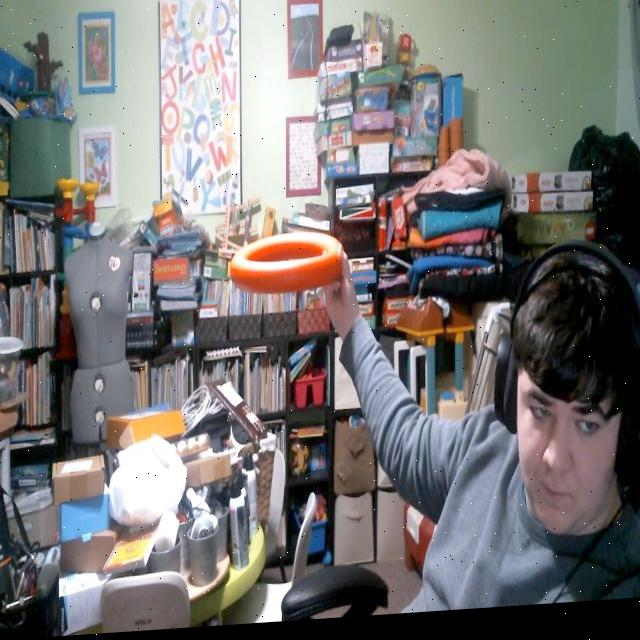note: (229, 230, 345, 301)
